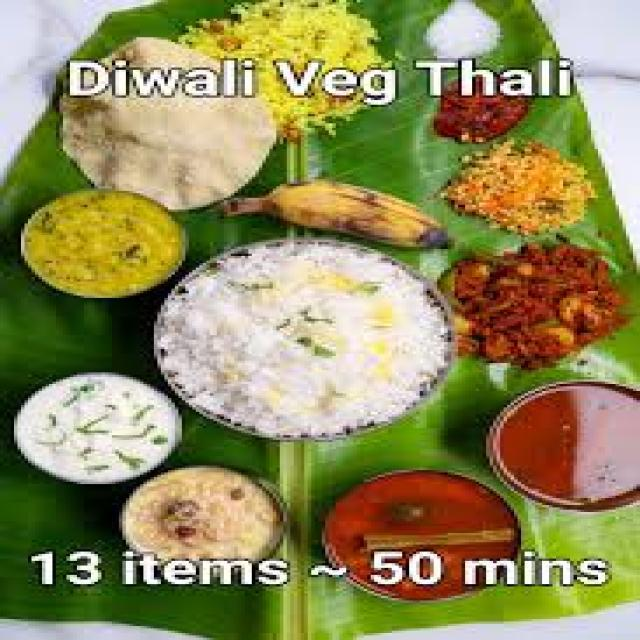curd: (9, 367, 191, 485)
dal: (23, 188, 196, 303)
papad: (45, 53, 289, 196)
pickle: (426, 78, 543, 144)
rice: (152, 241, 462, 437)
sambar-rasam: (313, 466, 536, 598)
sweet: (112, 460, 295, 575)
veg-fry: (433, 239, 633, 365)
